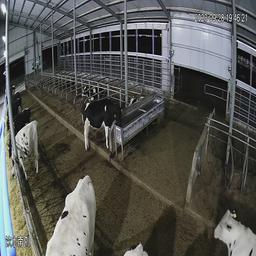cow: (47, 165, 98, 255), (201, 179, 255, 255), (82, 89, 124, 156), (6, 121, 43, 181), (6, 107, 31, 124)
